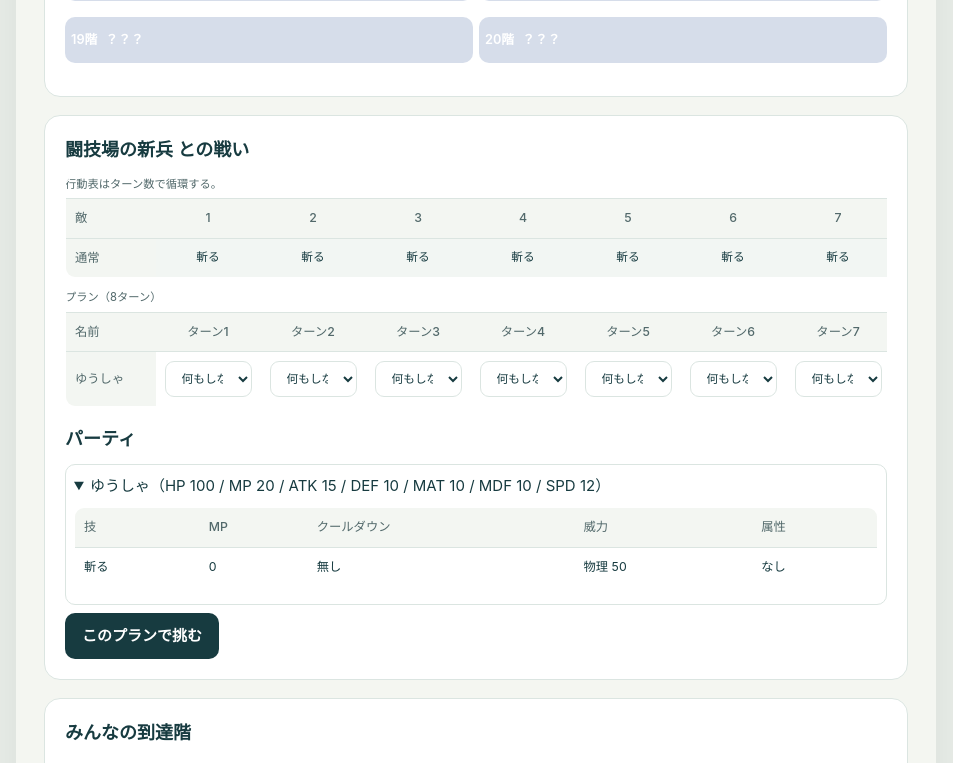
Test case: 送信・再挑戦（設計書 §2「勝てるまで並びを組み替える」） › 負けてもプランが残る
(page scrolled)
Expected: the text "プラン（8ターン）" is shown, [65,290,161,304]
Select "斬る" in the dropdown named "ゆうしゃ のターン1": x=208, y=379 [164,361,252,397]
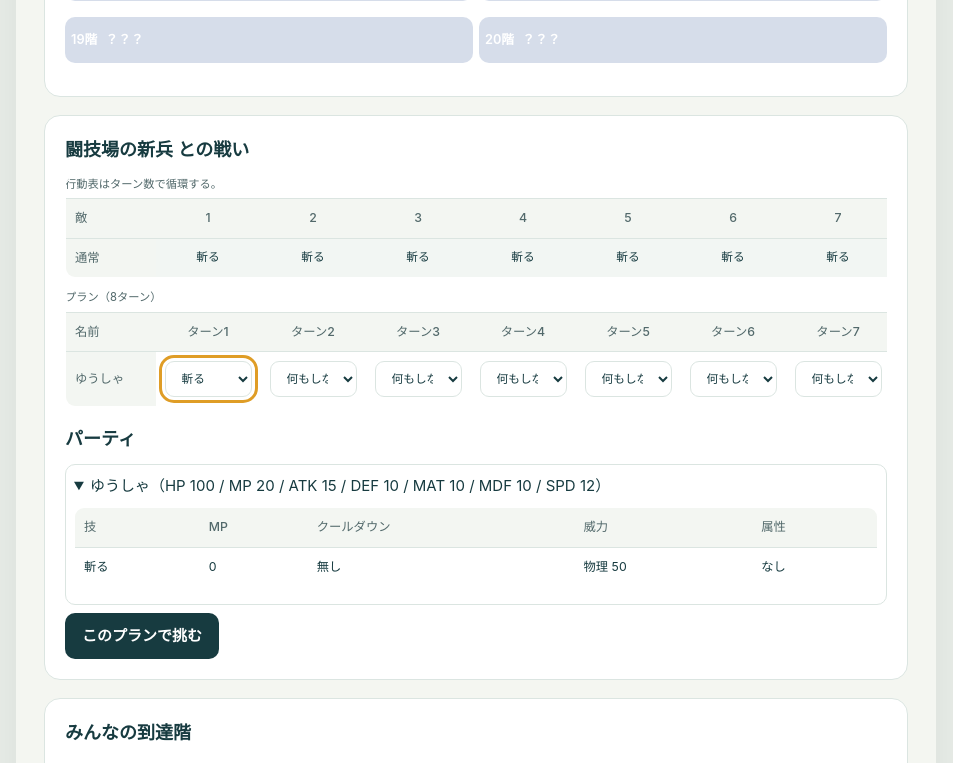
Click the button "このプランで挑む": x=142, y=636 [65,613,219,659]
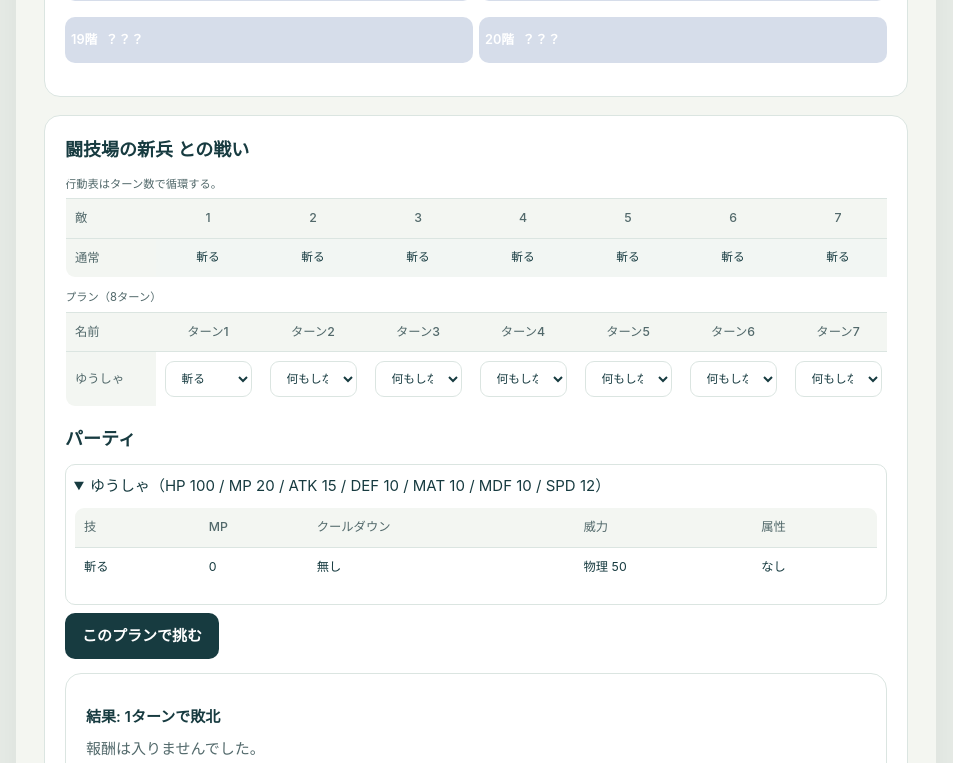
Now the text "報酬は入りませんでした。" is shown, box [86,739,265,758]
